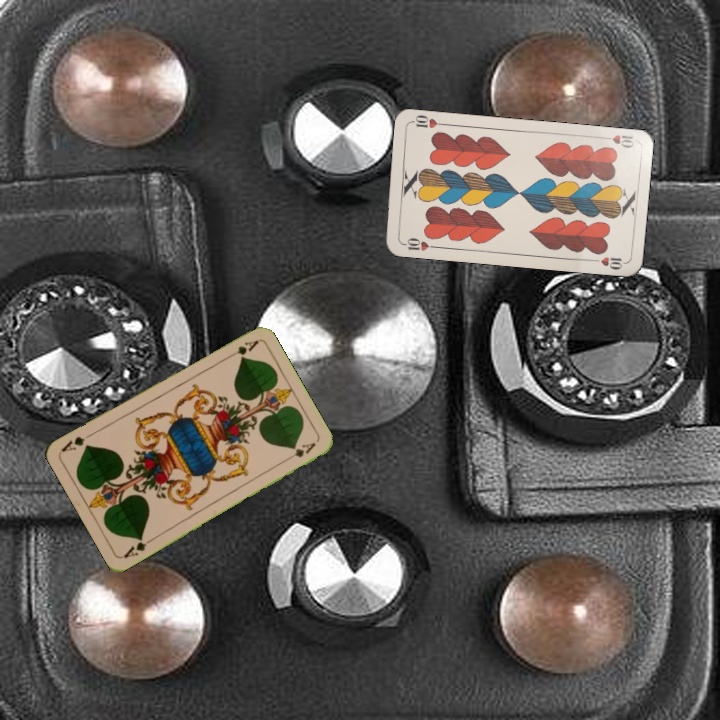GA: (119, 533, 156, 561), (222, 336, 261, 361)
H10: (597, 131, 637, 151), (398, 234, 439, 253)
